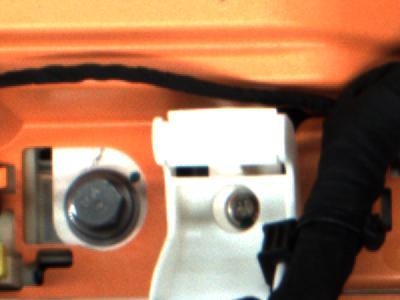nut_b: (61, 162, 144, 239)
